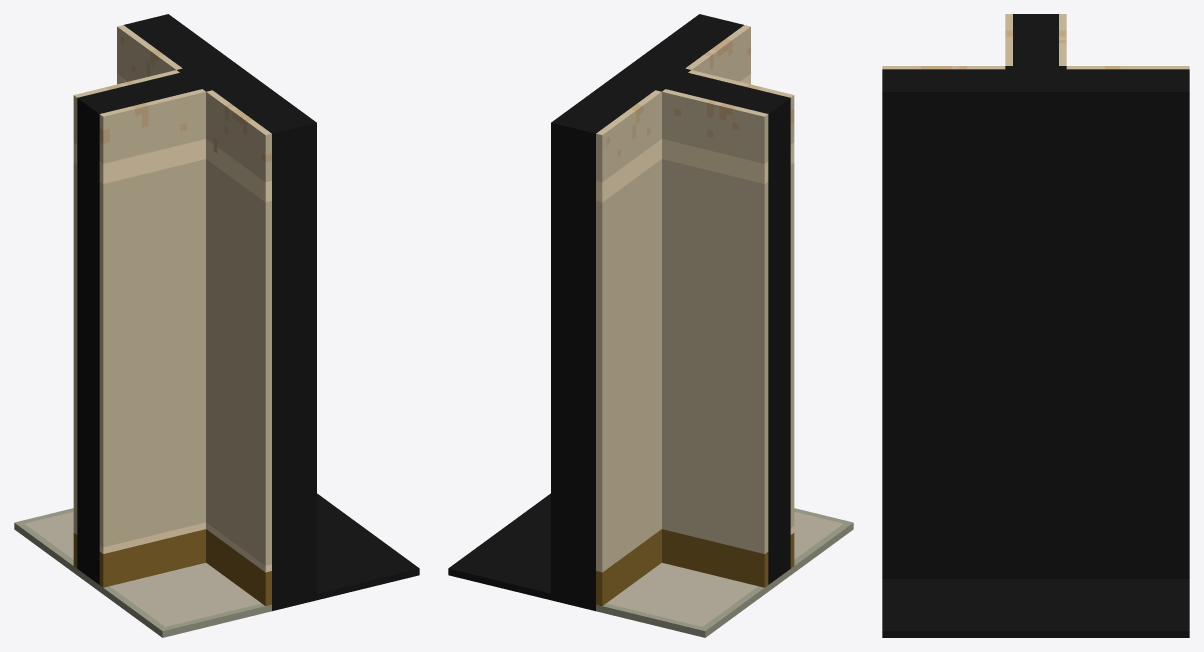
The model's file is Parede_T_1.obj.
3 views of the same model, side by side, from view 1: azimuth 30°, elevation 25°; view 2: azimuth 150°, elevation 25°; view 3: azimuth 270°, elevation 25° (orthographic). The views are drawn at different scales.
Bounding box in the file's own units: 40 × 71 × 40.
Materials: 1 (1 with a texture image).
